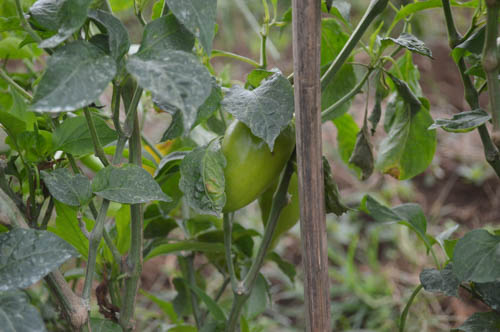ChiliPepper: (218, 119, 297, 210), (263, 178, 297, 240)
